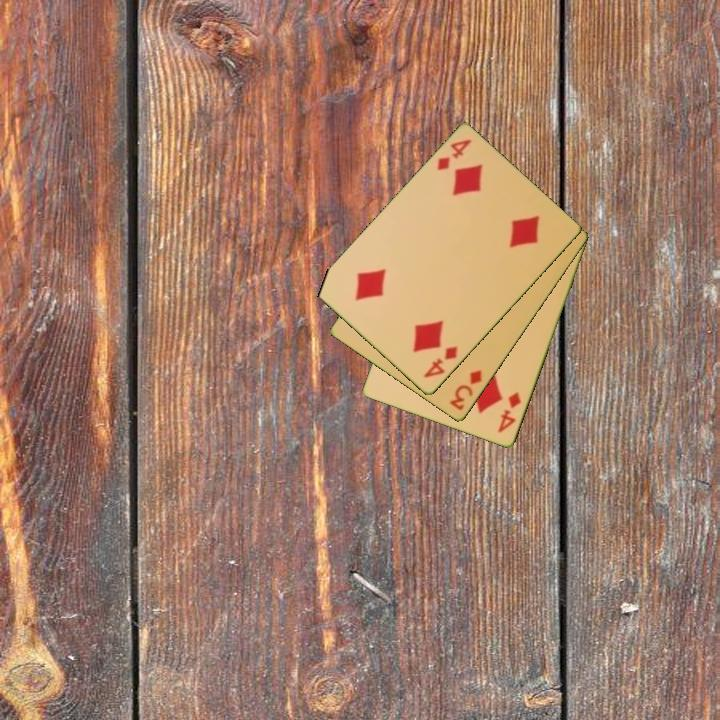3d: (446, 367, 485, 414)
4d: (420, 343, 461, 381), (433, 136, 474, 174), (495, 389, 524, 436)
